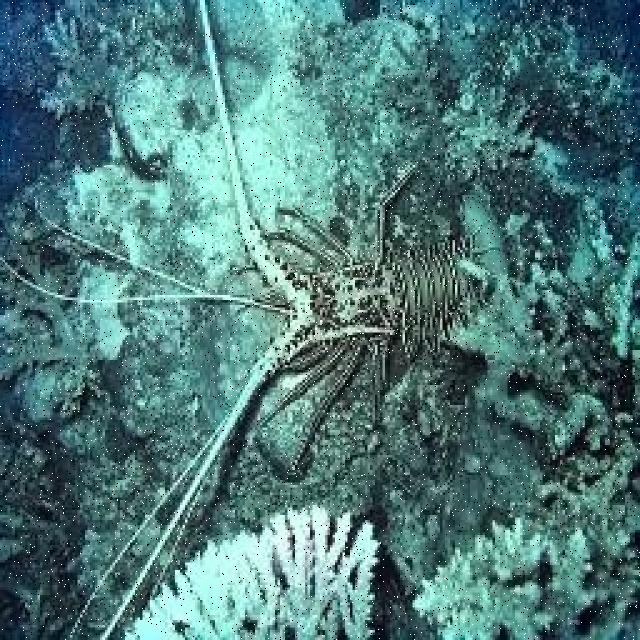reefs: (1, 0, 500, 638)
